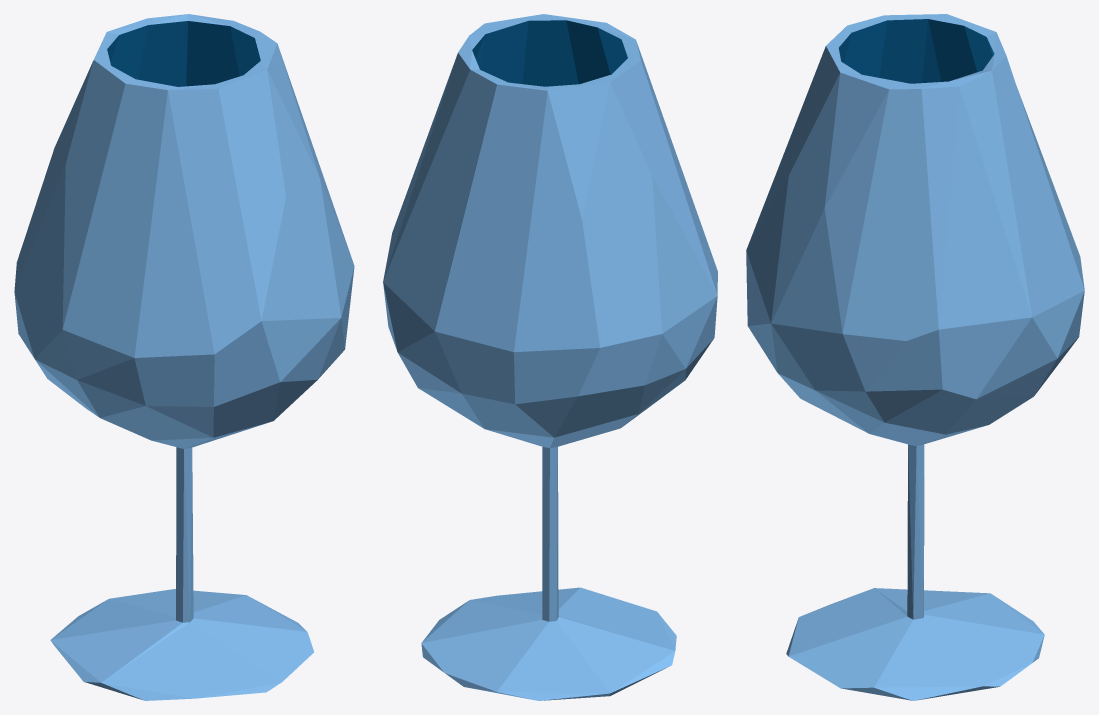
File: WineGlass03.fbx
3 views of the same model, side by side, from view 1: azimuth 30°, elevation 25°; view 2: azimuth 150°, elevation 25°; view 3: azimuth 270°, elevation 25° (orthographic).
Parts seen in each view (by area): view 1: WineGlass03LowPoly; view 2: WineGlass03LowPoly; view 3: WineGlass03LowPoly.
Part boxes in pixels (x1,y1,x2,y2): WineGlass03LowPoly: (14, 14, 354, 700); WineGlass03LowPoly: (383, 14, 717, 700); WineGlass03LowPoly: (746, 14, 1084, 700).
Size of the model in its own units: 12.25 by 23.89 by 12.31.
